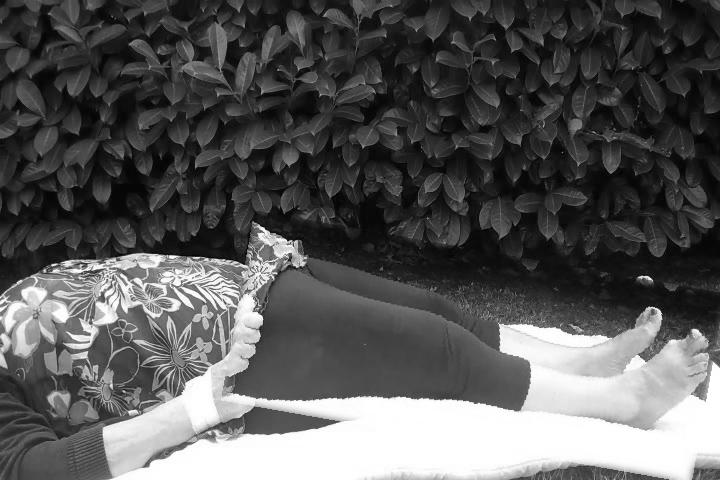lowerbody: (228, 231, 720, 464)
